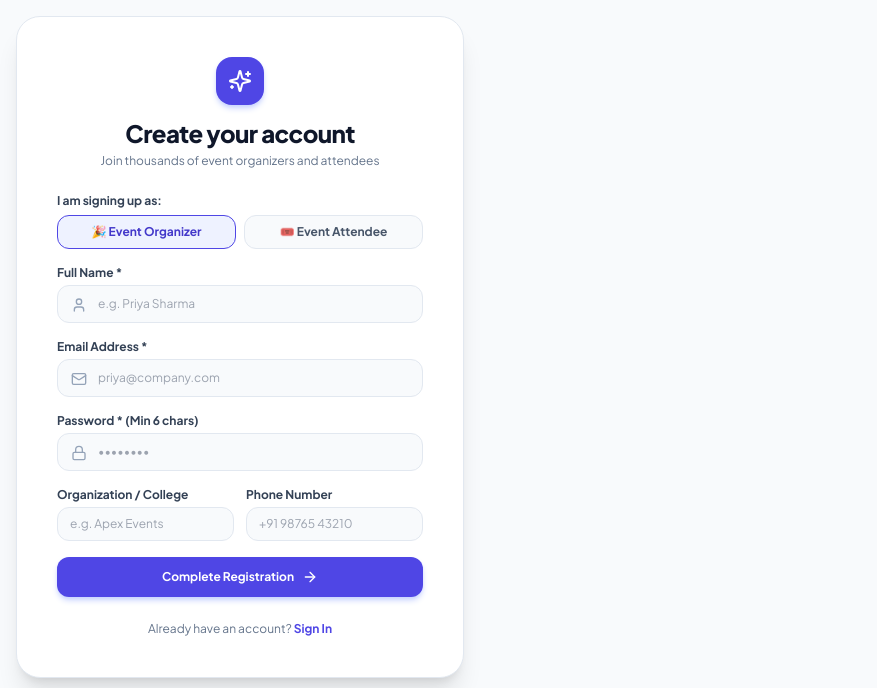
Test: Login/Register Form Validation › handles backend registration failure and displays error toast
Type "Priya Sharma" into the field with placeholder "e.g. Priya Sharma" at coordinates (240, 304), box [57, 285, 423, 323]
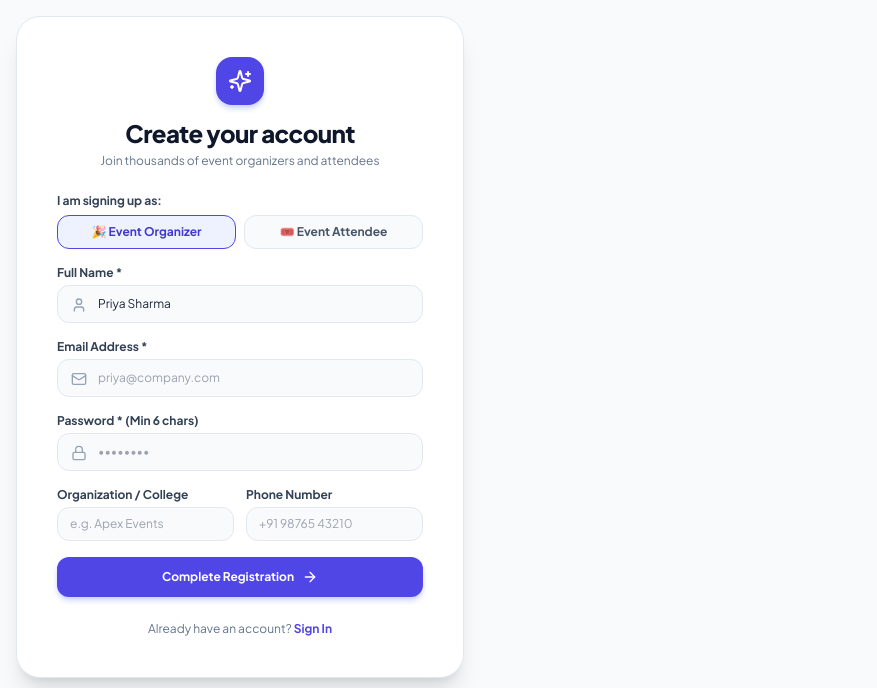
Type "priya@example.com" into the field with placeholder "priya@company.com" at coordinates (240, 378), box [57, 359, 423, 397]
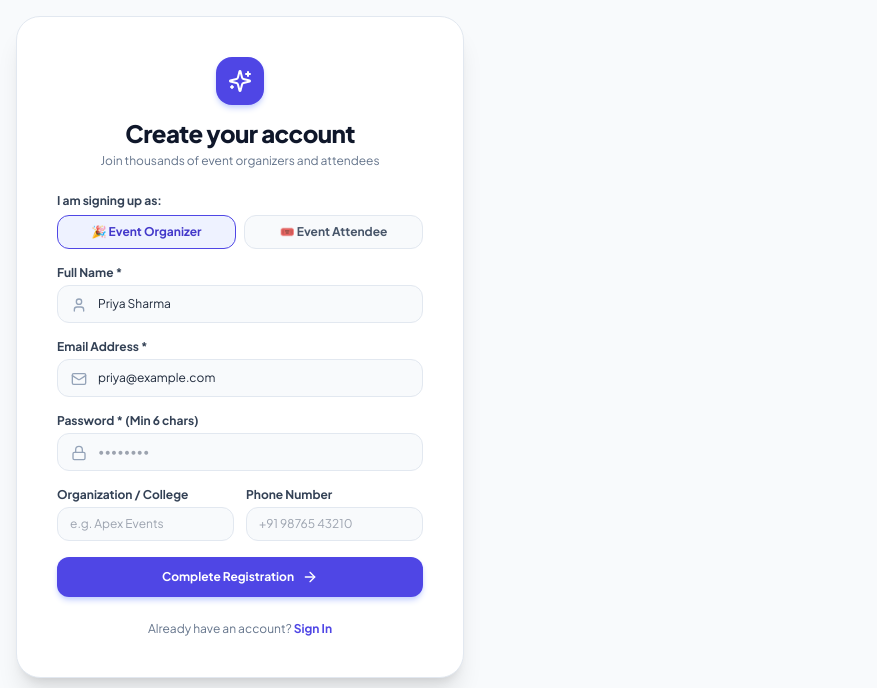
Type "securePass123" into the password field with placeholder "••••••••" at coordinates (240, 452), box [57, 433, 423, 471]
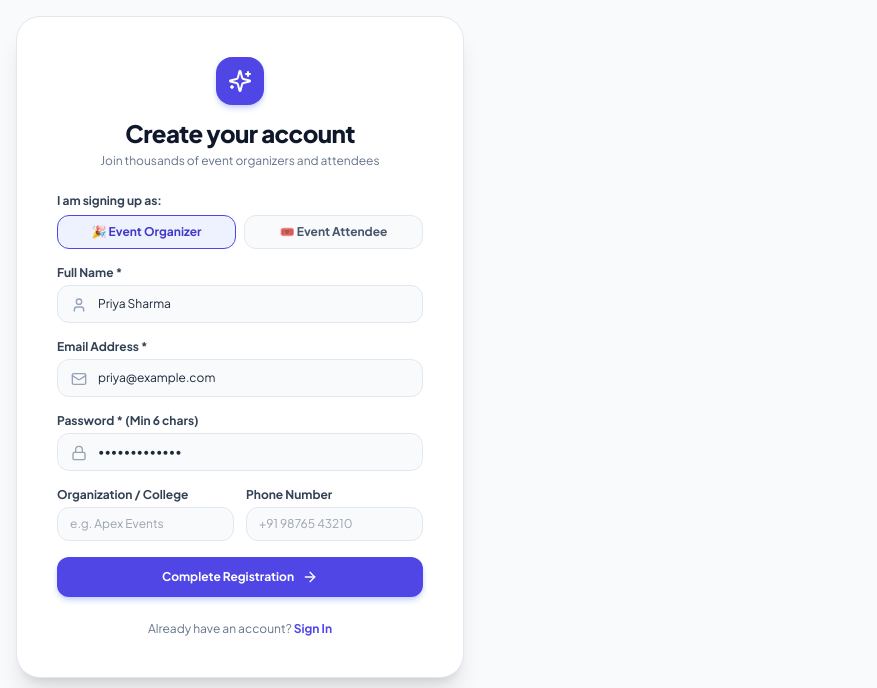
Submit the form named "complete registration", box [57, 193, 423, 597]
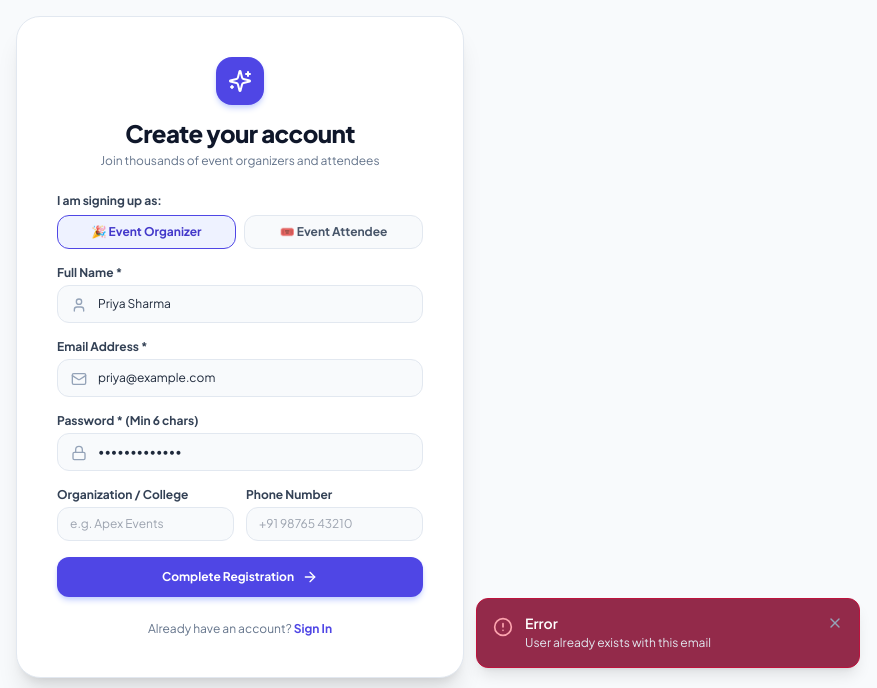
Expected: the text "User already exists with this email" is shown, [525, 634, 711, 650]
